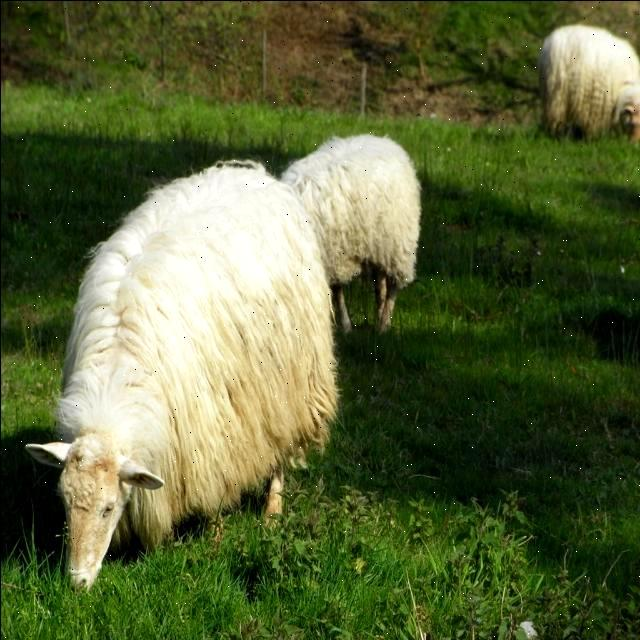sheep: (24, 160, 338, 587), (279, 132, 420, 330), (536, 23, 638, 133)
